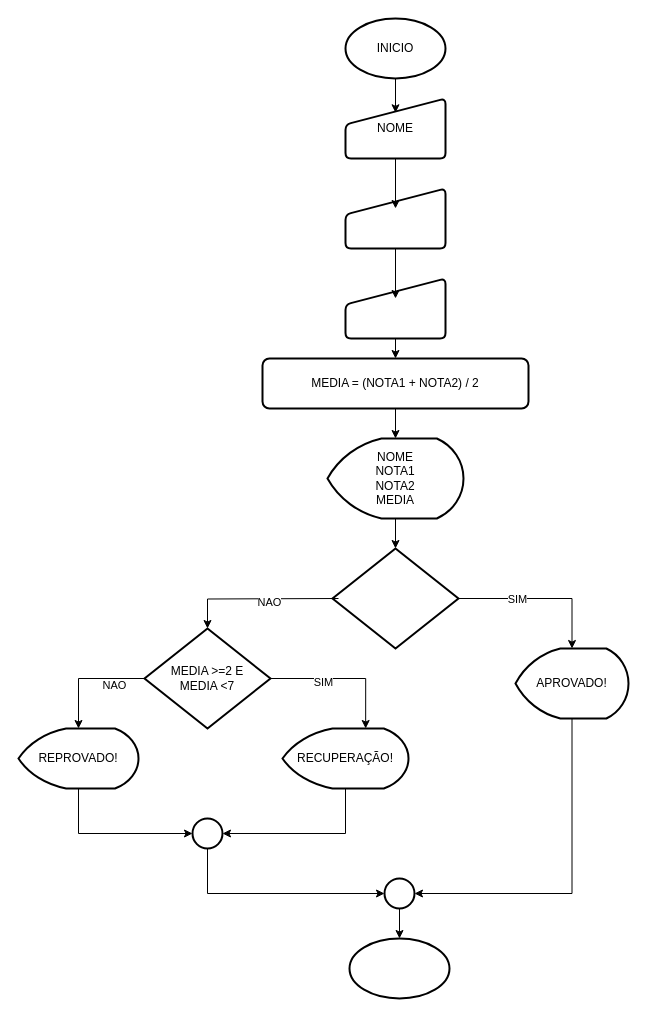
Image size: 646x1016. Some labels were removed from this diagram. The shapes that lost their labels are listed below. From the top down, each one's centre as x and y in pixels, then its label:
At point (395, 218): "NOTA1".
At point (395, 308): "NOTA2".
At point (395, 598): "MEDIA >= 7".
At point (399, 968): "FIM".
